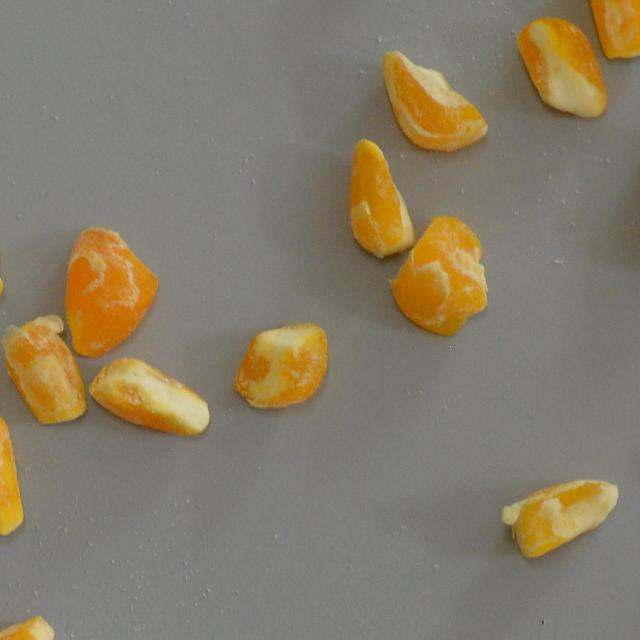dañado: (62, 218, 160, 358), (386, 212, 491, 342), (378, 45, 490, 153), (498, 472, 622, 562), (512, 11, 610, 122), (0, 310, 88, 429), (346, 134, 420, 262), (574, 0, 640, 64), (0, 404, 27, 540), (0, 606, 58, 640)
punto_negro: (88, 353, 212, 437), (232, 314, 332, 412)
